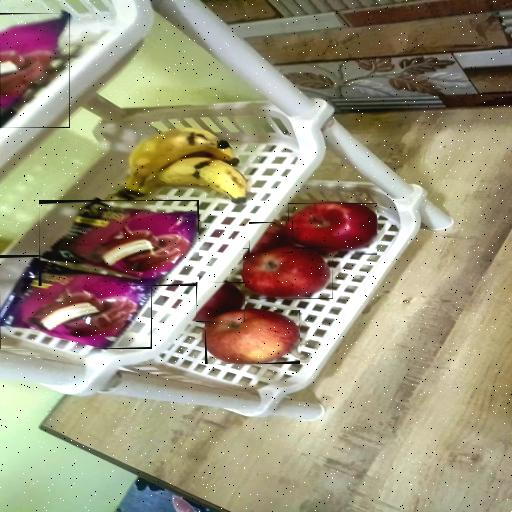Apple: (205, 310, 300, 364), (288, 204, 377, 256), (244, 248, 334, 299), (196, 282, 245, 322), (249, 222, 293, 253)
Choco Pie: (0, 255, 152, 349), (39, 200, 199, 286), (0, 13, 70, 128)
